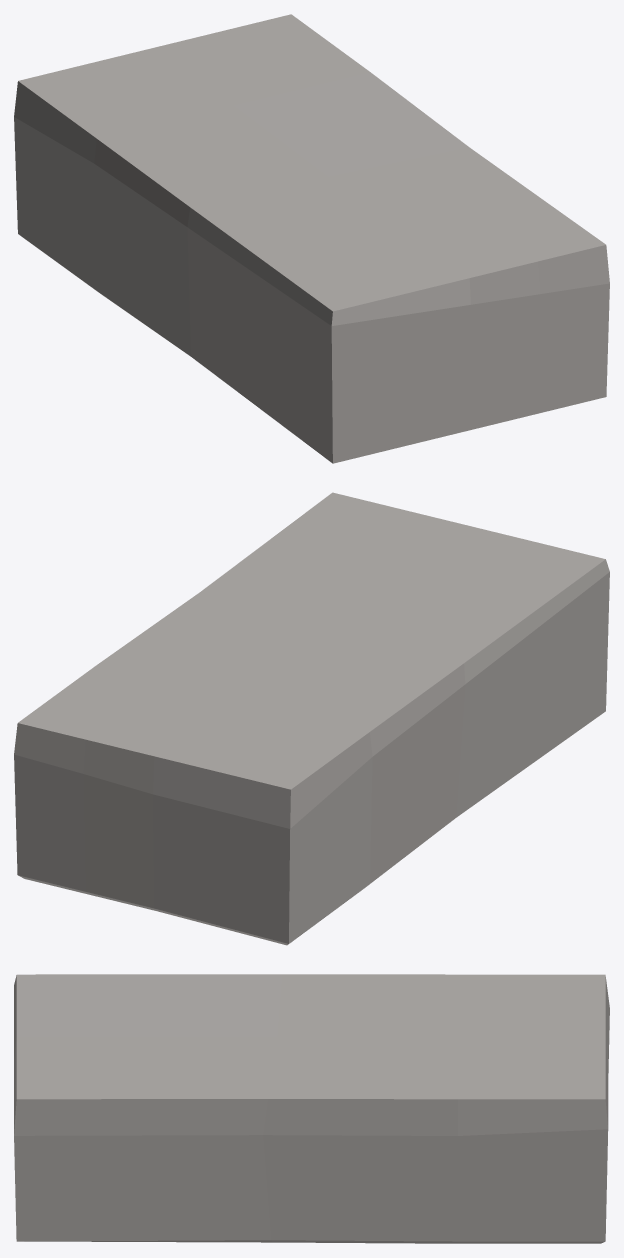
3 views of the same model, one above another, from view 1: azimuth 30°, elevation 25°; view 2: azimuth 150°, elevation 25°; view 3: azimuth 270°, elevation 25° (orthographic). The views are drawn at different scales.
Visible parts, largest first — view 1: base-1x2; view 2: base-1x2; view 3: base-1x2.
Boxes of the visible parts, x1,y1,x2,y2 form: base-1x2: (14, 14, 609, 463); base-1x2: (14, 492, 609, 945); base-1x2: (14, 974, 609, 1243).
Size of the model in its own units: 1.02 by 2.01 by 0.5525.
